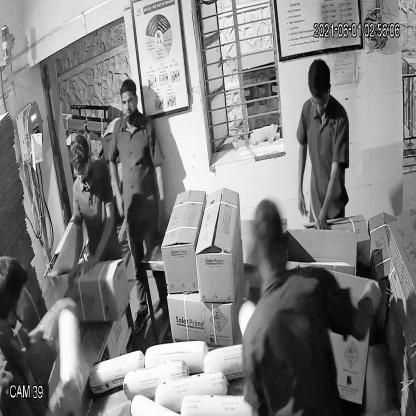goggles: (68, 162, 94, 184)
